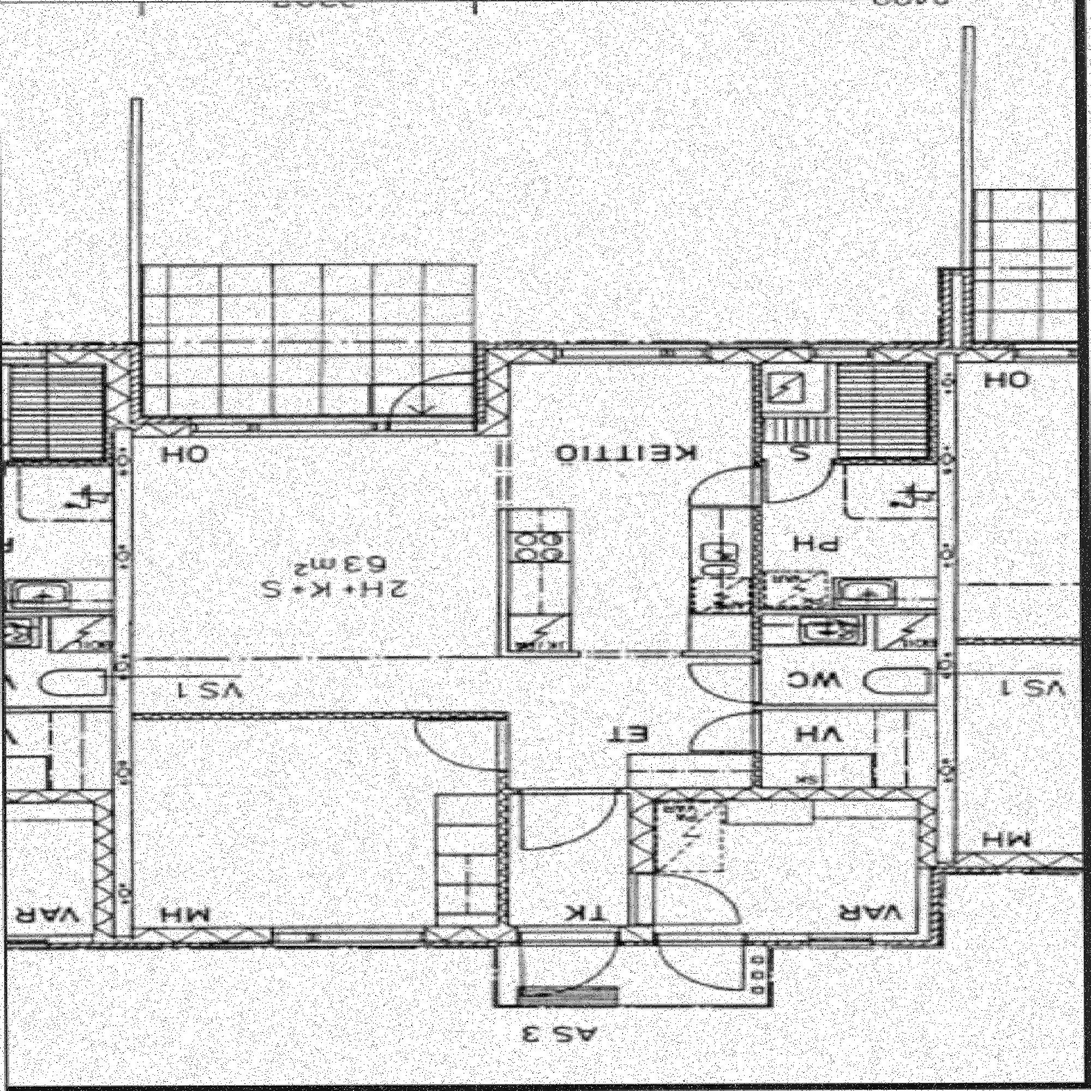wall: (113, 415, 134, 946), (113, 926, 654, 945), (473, 342, 956, 363), (114, 416, 510, 436), (937, 465, 956, 787), (628, 787, 955, 801), (753, 342, 762, 801), (629, 787, 654, 946), (655, 933, 944, 946), (927, 342, 956, 465), (473, 342, 510, 436), (917, 787, 956, 874), (498, 712, 508, 946), (114, 713, 508, 718), (917, 874, 944, 946), (498, 508, 508, 657), (752, 459, 956, 465), (752, 609, 956, 615), (752, 704, 956, 710), (131, 343, 143, 416), (498, 787, 628, 793), (498, 651, 579, 657), (683, 651, 762, 657)
